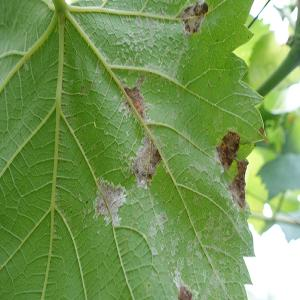Folha: (0, 0, 266, 299)
Fungo: (92, 76, 162, 227), (149, 201, 247, 300), (109, 18, 194, 78), (122, 75, 162, 189), (215, 130, 249, 210), (92, 176, 126, 228), (131, 133, 161, 189), (122, 75, 148, 121), (227, 158, 249, 210), (178, 0, 208, 36), (184, 148, 210, 185), (216, 130, 240, 170), (178, 127, 201, 159), (172, 270, 192, 299), (178, 284, 193, 300), (133, 99, 143, 115), (259, 126, 264, 134)
